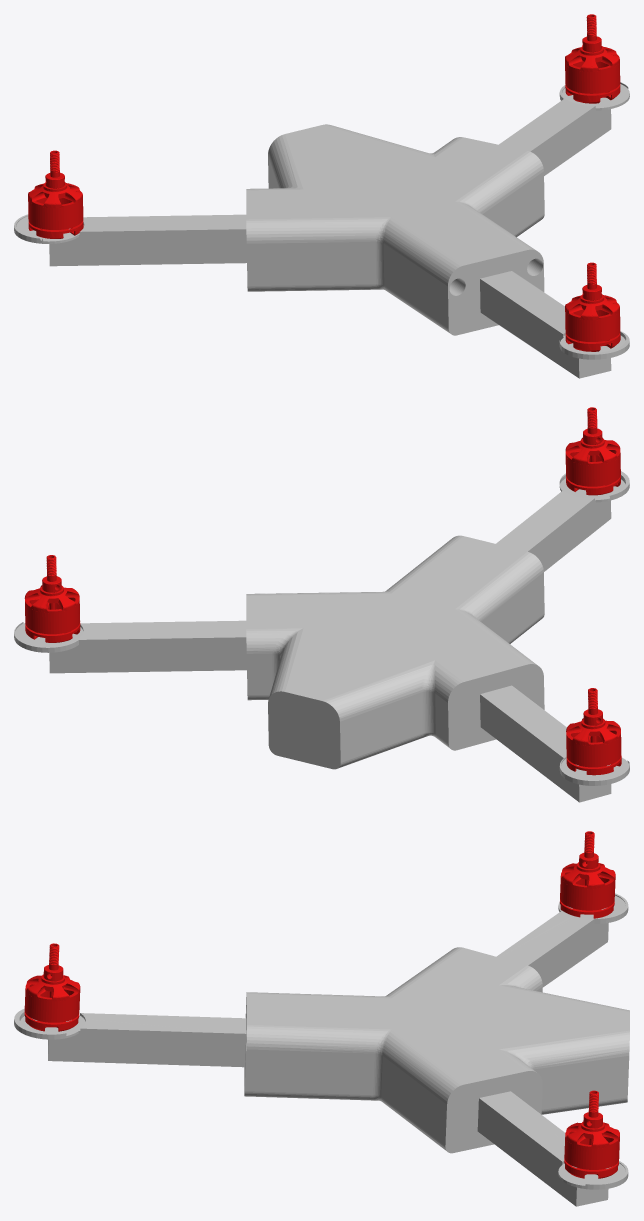
The model's file is sevjr.dae.
The picture shows the model from 3 angles, top to bottom: view 1: azimuth 30°, elevation 25°; view 2: azimuth 150°, elevation 25°; view 3: azimuth 270°, elevation 25°; orthographic projection.
Parts seen in each view (by area): view 1: SEV Jr Body, SEV_Jr_Motor, SEV_Jr_Motor.001, SEV_Jr_Motor.003; view 2: SEV Jr Body, SEV_Jr_Motor, SEV_Jr_Motor.001, SEV_Jr_Motor.003; view 3: SEV Jr Body, SEV_Jr_Motor, SEV_Jr_Motor.001, SEV_Jr_Motor.003.
Boxes of the visible parts, <box> form: SEV Jr Body: <box>14,82,629,378</box>; SEV_Jr_Motor: <box>565,262,620,351</box>; SEV_Jr_Motor.001: <box>565,14,620,103</box>; SEV_Jr_Motor.003: <box>28,150,83,238</box>; SEV Jr Body: <box>14,471,629,802</box>; SEV_Jr_Motor: <box>565,407,620,495</box>; SEV_Jr_Motor.001: <box>24,555,80,642</box>; SEV_Jr_Motor.003: <box>566,688,621,775</box>; SEV Jr Body: <box>14,893,629,1206</box>; SEV_Jr_Motor: <box>24,943,80,1031</box>; SEV_Jr_Motor.001: <box>564,1090,619,1178</box>; SEV_Jr_Motor.003: <box>560,831,615,918</box>.
Size of the model in its own units: 0.5688 by 0.5014 by 0.1284.
